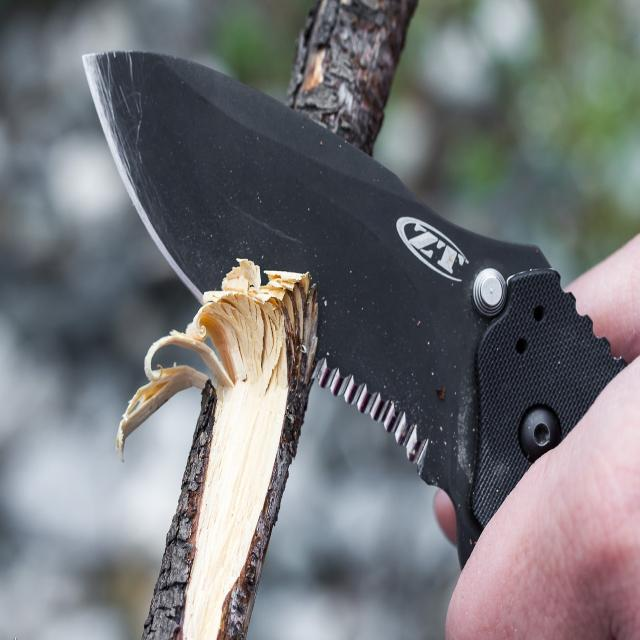knife: (78, 42, 532, 510)
